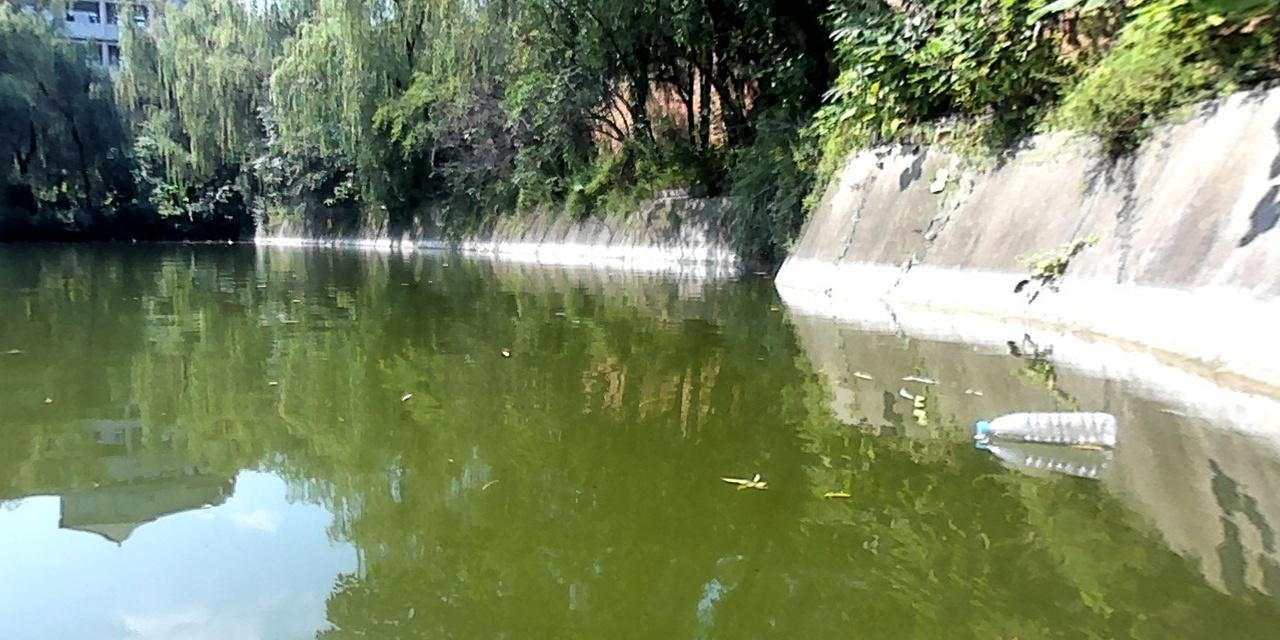bottle: (975, 407, 1119, 451)
